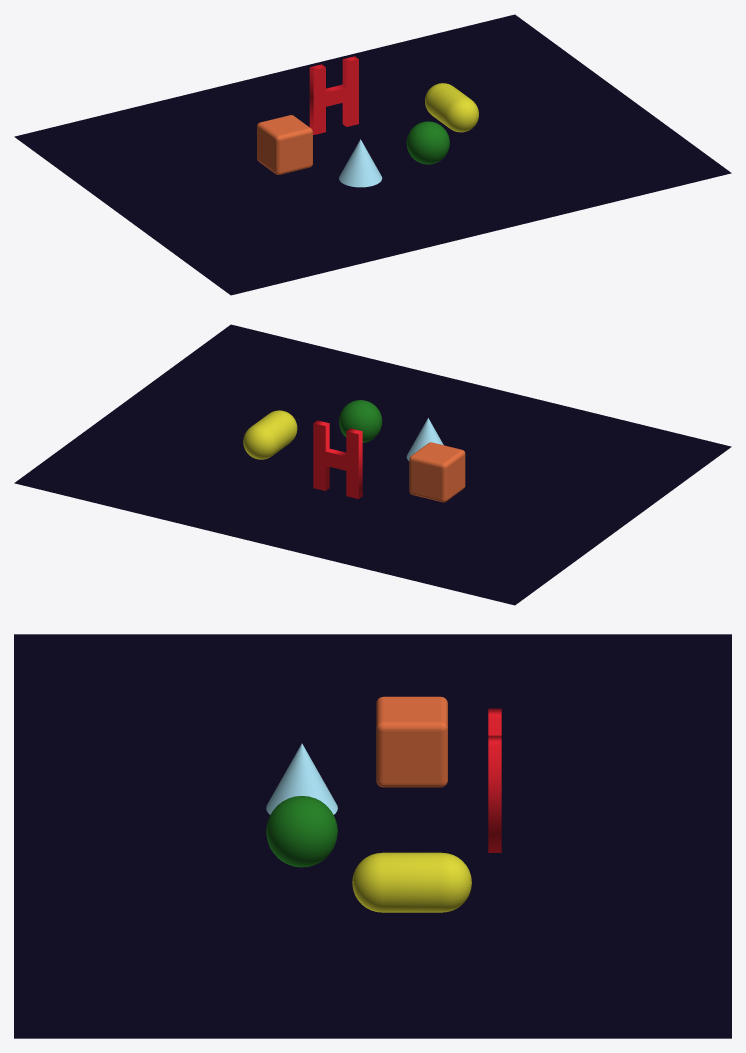
File: H-rotation.gltf
3 renders of one model, top to bottom at view 1: azimuth 30°, elevation 25°; view 2: azimuth 150°, elevation 25°; view 3: azimuth 270°, elevation 25°, orthographic. The views are drawn at different scales.
Visible parts, largest first — view 1: Plane, Cube, Huawei, Capsule, Sphere, cone; view 2: Plane, Cube, Huawei, Capsule, Sphere, cone; view 3: Plane, Cube, Capsule, Sphere, cone, Huawei.
Boxes of the visible parts, x1,y1,x2,y2 form: Plane: [14, 14, 731, 295]; Cube: [257, 115, 312, 174]; Huawei: [309, 56, 358, 134]; Capsule: [425, 83, 478, 132]; Sphere: [406, 121, 449, 164]; cone: [339, 139, 382, 187]; Plane: [14, 324, 731, 605]; Cube: [409, 442, 465, 502]; Huawei: [313, 420, 362, 498]; Capsule: [243, 410, 297, 459]; Sphere: [339, 400, 382, 442]; cone: [406, 418, 443, 460]; Plane: [14, 634, 731, 1038]; Cube: [376, 696, 447, 787]; Capsule: [352, 852, 471, 912]; Sphere: [266, 796, 337, 867]; cone: [266, 743, 337, 814]; Huawei: [488, 708, 501, 852].
Bounding box in the file's own units: 80 × 9.98 × 60.
